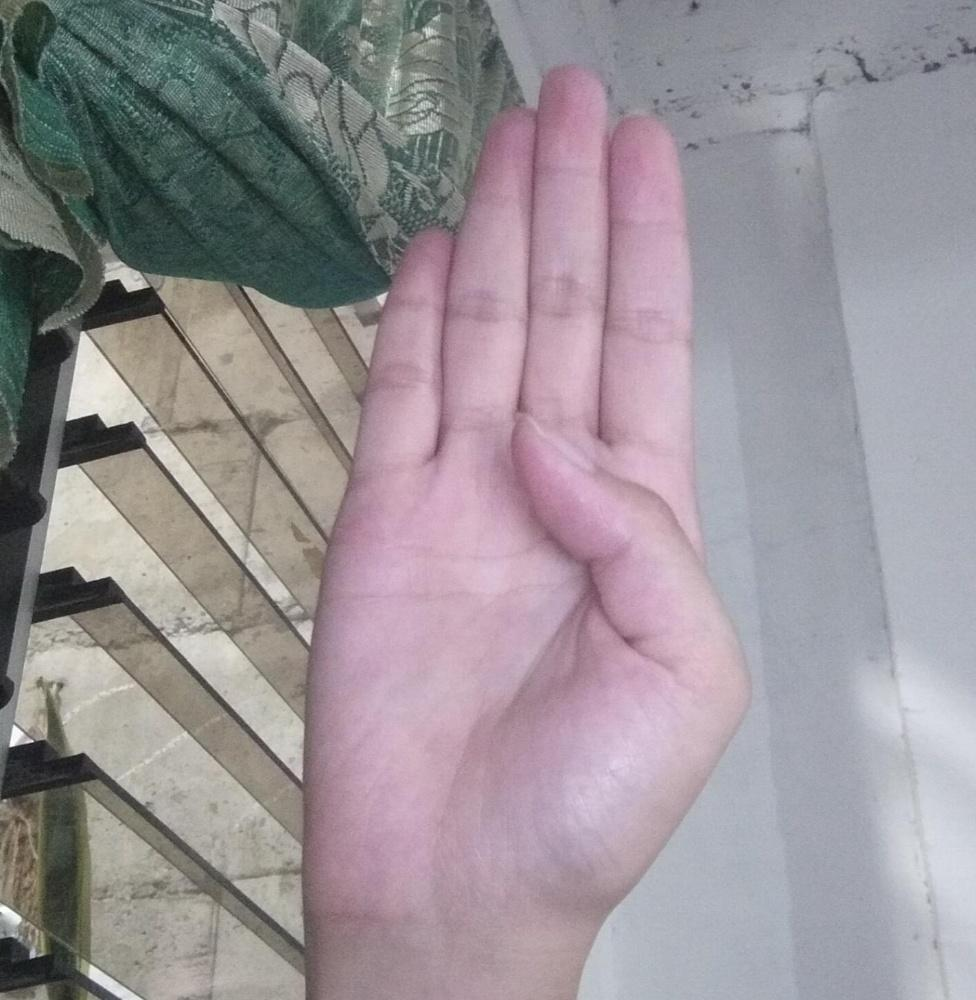b: (301, 61, 755, 947)
